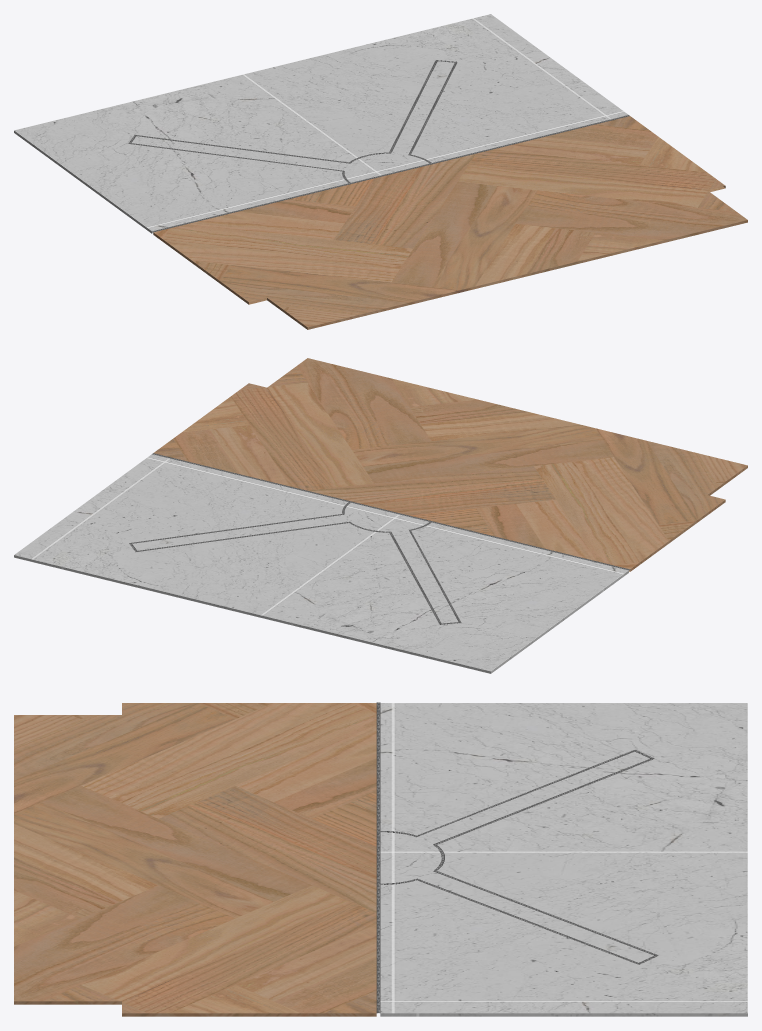
The model's file is Ground.fbx.
3 views of the same model, one above another, from view 1: azimuth 30°, elevation 25°; view 2: azimuth 150°, elevation 25°; view 3: azimuth 270°, elevation 25° (orthographic). The views are drawn at different scales.
Visible parts, largest first — view 1: Plane011, Plane.002, Plane.003; view 2: Plane011, Plane.002, Plane.003; view 3: Plane011, Plane.002, Plane.003.
Boxes of the visible parts, x1,y1,x2,y2 form: Plane011: [14, 14, 747, 329]; Plane.002: [128, 60, 457, 182]; Plane.003: [151, 115, 629, 232]; Plane011: [14, 358, 747, 673]; Plane.002: [129, 502, 461, 624]; Plane.003: [152, 453, 630, 570]; Plane011: [14, 703, 747, 1016]; Plane.002: [380, 749, 658, 964]; Plane.003: [376, 702, 380, 1013].
Size of the model in its own units: 20034 by 103 by 20000.
